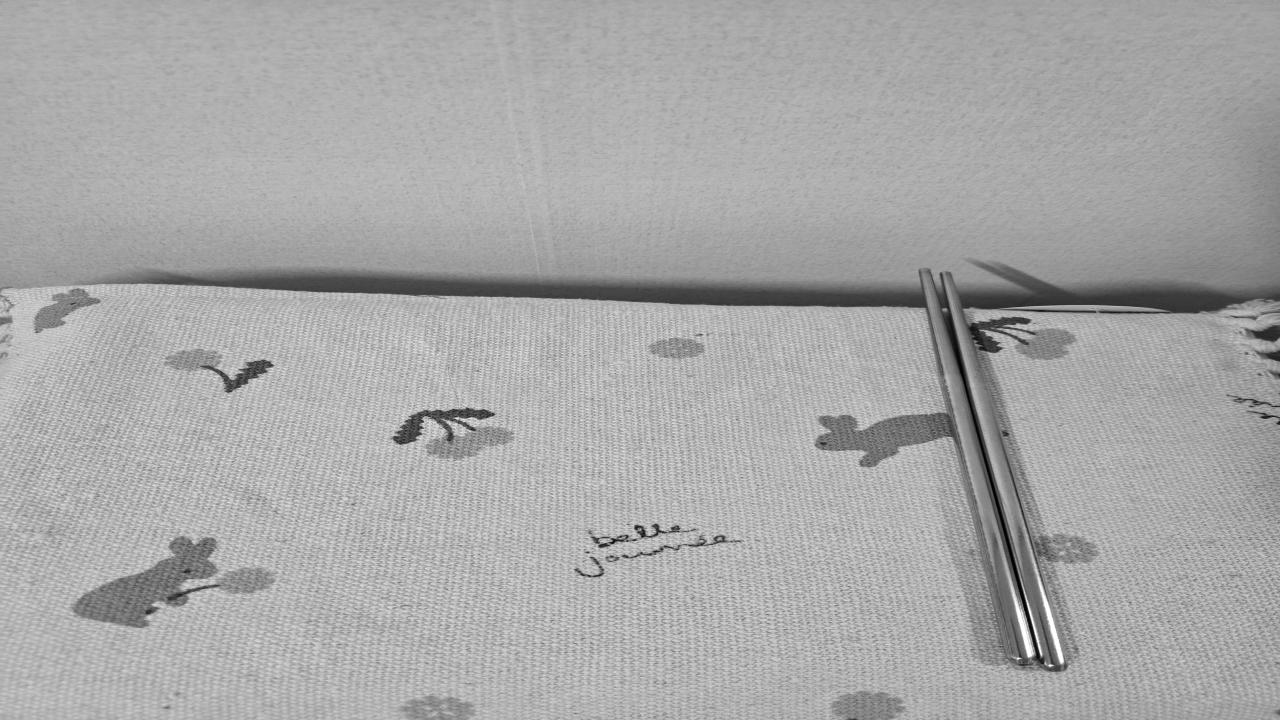chopstick: (919, 268, 1071, 668)
